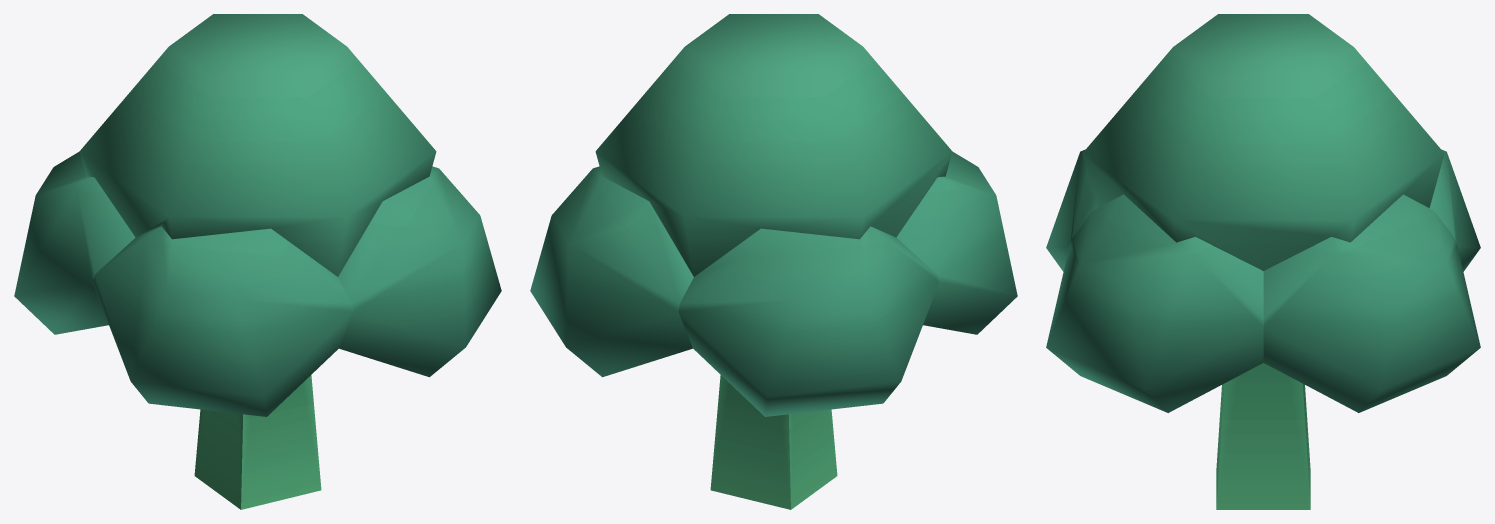
Rendered from broccoli.glb.
3 renders of one model, left to right at view 1: azimuth 30°, elevation 25°; view 2: azimuth 150°, elevation 25°; view 3: azimuth 270°, elevation 25°, orthographic.
Parts seen in each view (by area): view 1: broccoli; view 2: broccoli; view 3: broccoli.
Part boxes in pixels (x1=…): broccoli: x1=14, y1=14, x2=501, y2=509; broccoli: x1=530, y1=14, x2=1017, y2=509; broccoli: x1=1046, y1=14, x2=1480, y2=509.
Bounding box in the file's own units: 0.3752 × 0.4217 × 0.3752.
Materials: 1 (1 with a texture image).
